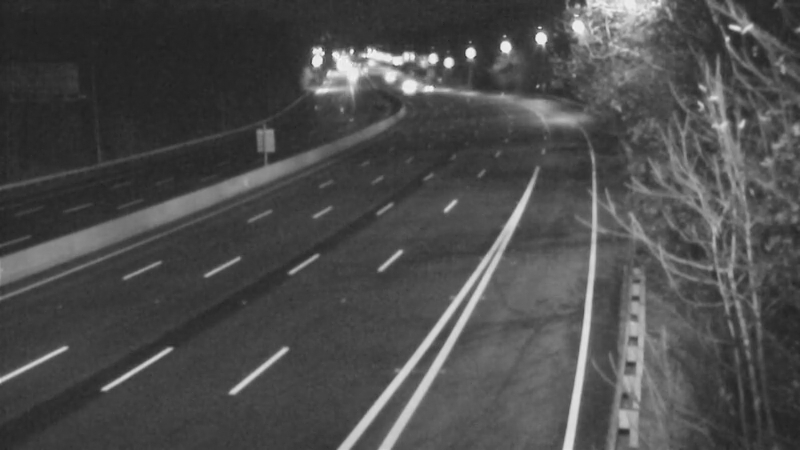vehicle: (362, 51, 412, 101), (377, 60, 427, 110), (397, 60, 447, 110)
